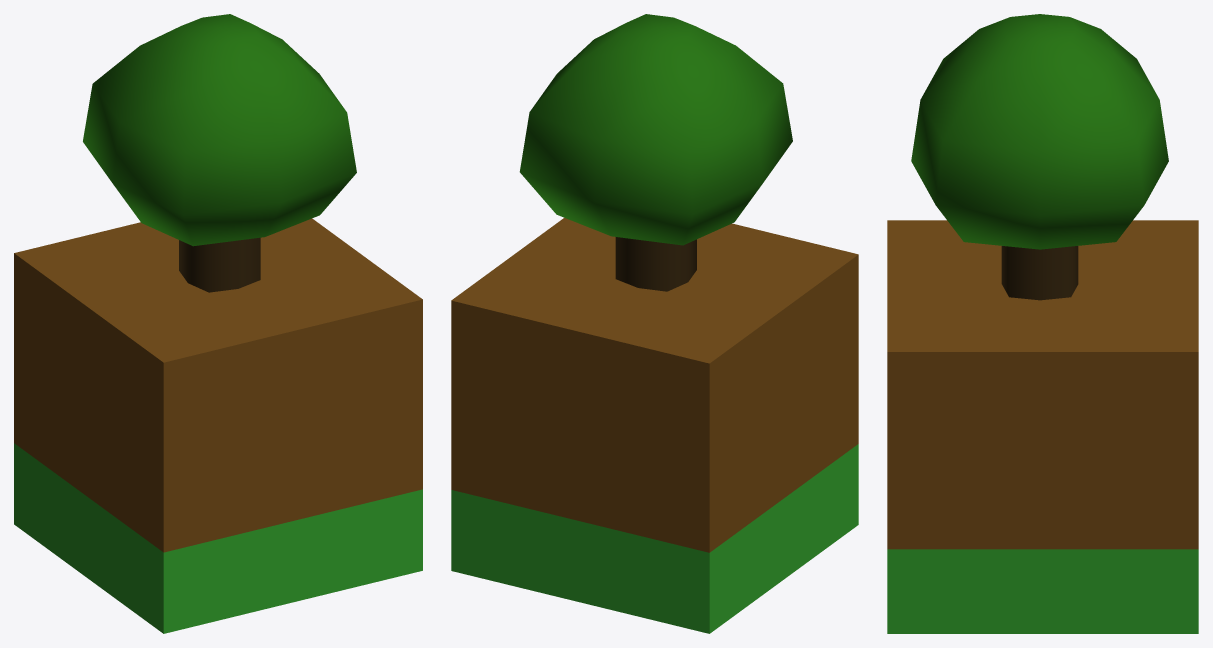
File: ForestTreeSmallBlender.fbx
3 renders of one model, left to right at view 1: azimuth 30°, elevation 25°; view 2: azimuth 150°, elevation 25°; view 3: azimuth 270°, elevation 25°, orthographic. The views are drawn at different scales.
Parts seen in each view (by area): view 1: ForestGround01, ForestTreeDShort; view 2: ForestGround01, ForestTreeDShort; view 3: ForestGround01, ForestTreeDShort.
Boxes of the visible parts, x1,y1,x2,y2 form: ForestGround01: [14, 218, 422, 633]; ForestTreeDShort: [83, 14, 356, 292]; ForestGround01: [451, 218, 858, 633]; ForestTreeDShort: [519, 14, 792, 291]; ForestGround01: [887, 220, 1198, 633]; ForestTreeDShort: [911, 14, 1168, 300].
Size of the model in its own units: 2 by 3.84 by 2.
2 materials, 2 textured.
